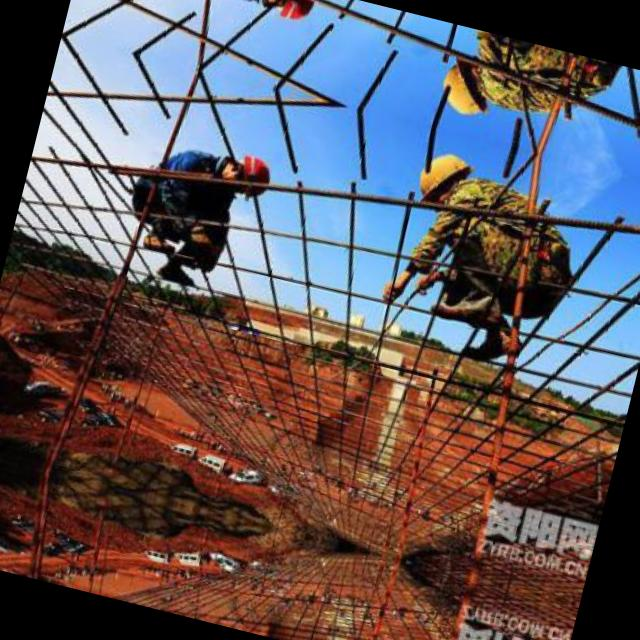helmet: (410, 141, 479, 210), (431, 57, 500, 126), (212, 148, 276, 198), (254, 0, 320, 26)
